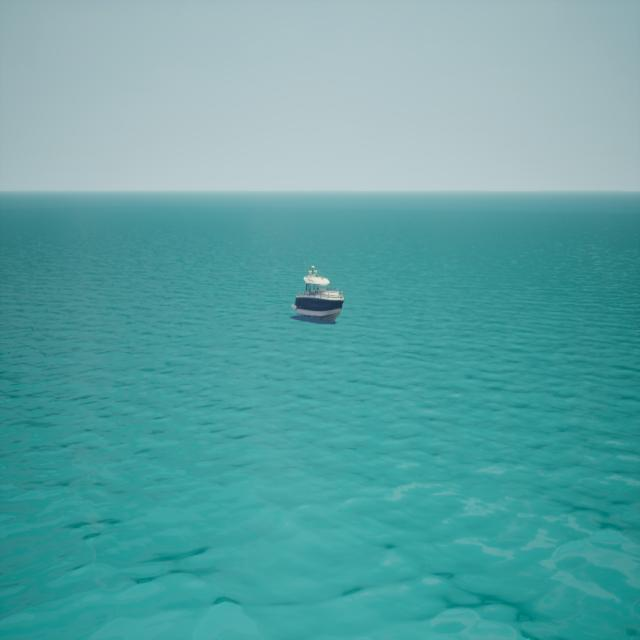ship: (293, 264, 346, 322)
